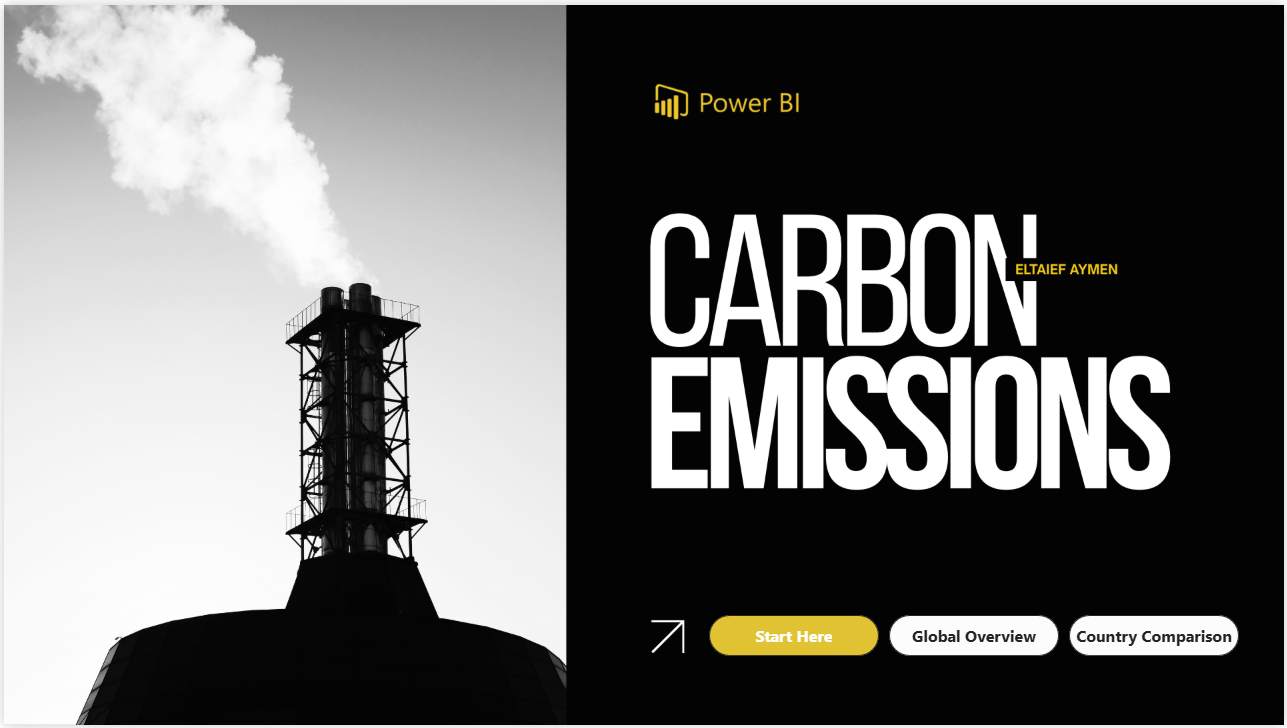

What the dashboard file says about the page in this screenshot:
{"tool":"powerbi","page":{"name":"Start Here","canvas":[1280,720],"ordinal":0},"visuals":[{"type":"pageNavigator","box":[705,610,531.2,41.2],"z":0}]}

Visuals, with their boxes in screenshot pixels (x1, y1, x2, y2), scaled from the page's 1280x720 canvas onto the 1287x728 screenshot:
pageNavigator: {"x1": 709, "y1": 617, "x2": 1243, "y2": 658}
